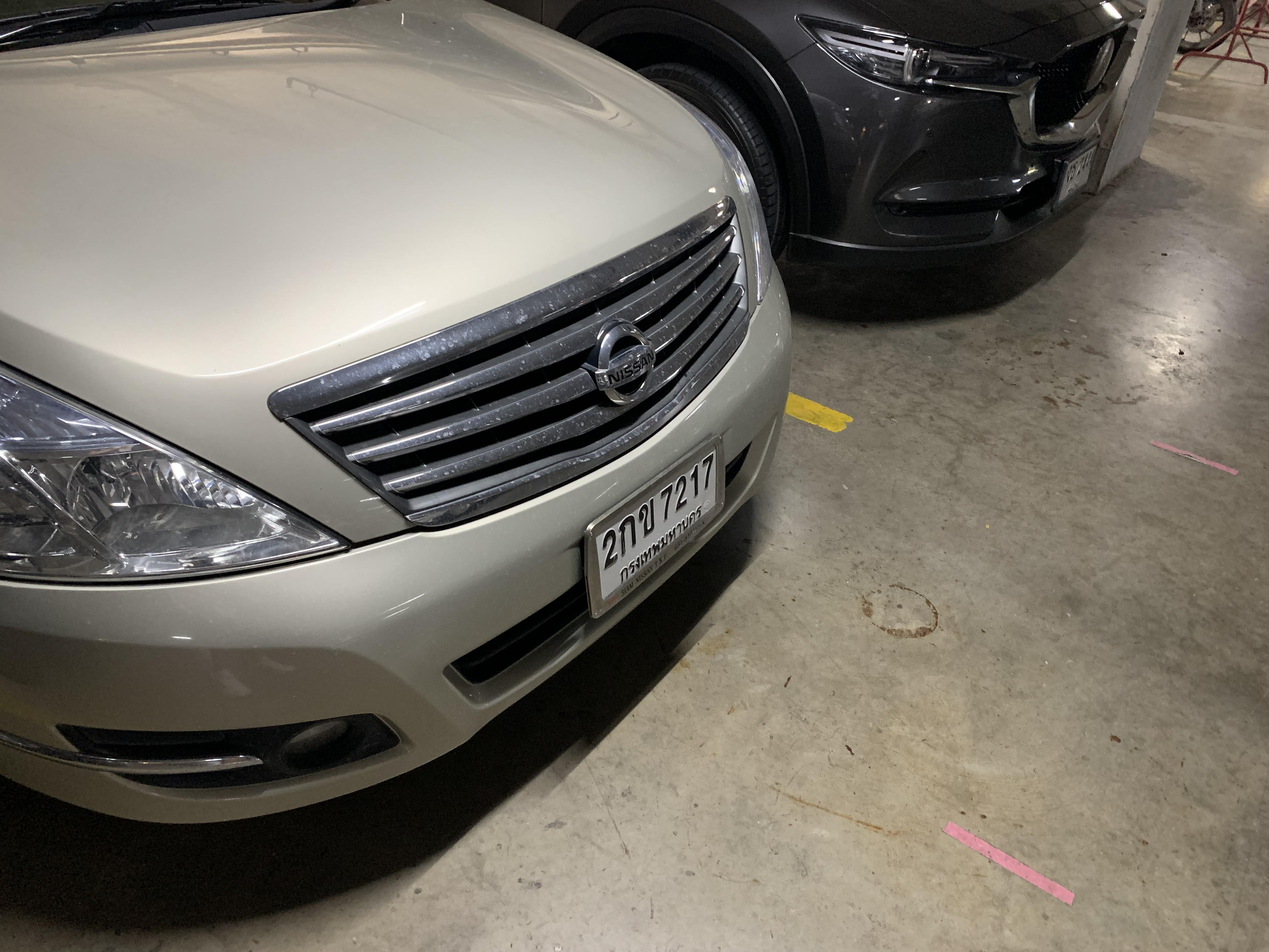license-plate: (575, 427, 731, 628), (1055, 139, 1104, 213)
